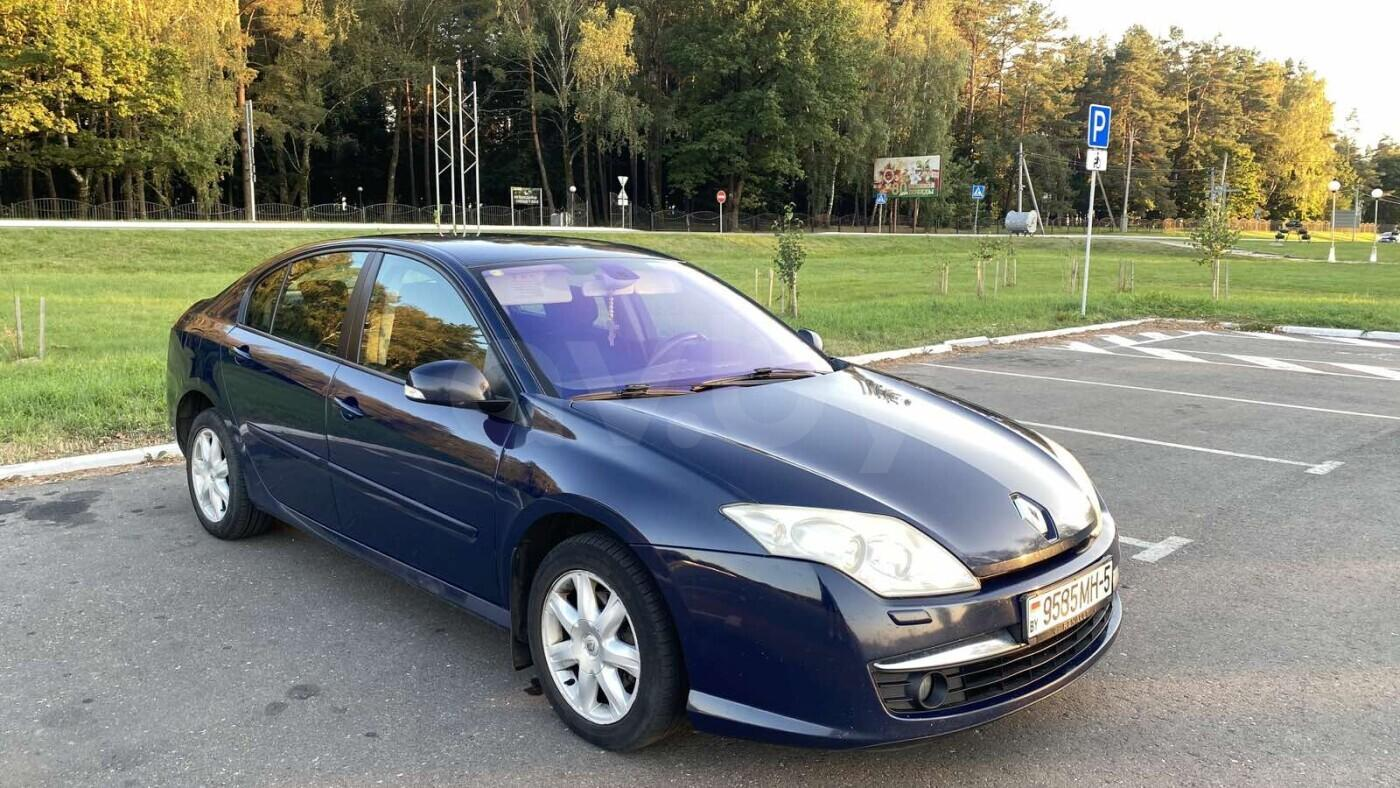Laguna_2007-2011: (166, 234, 1123, 750)
